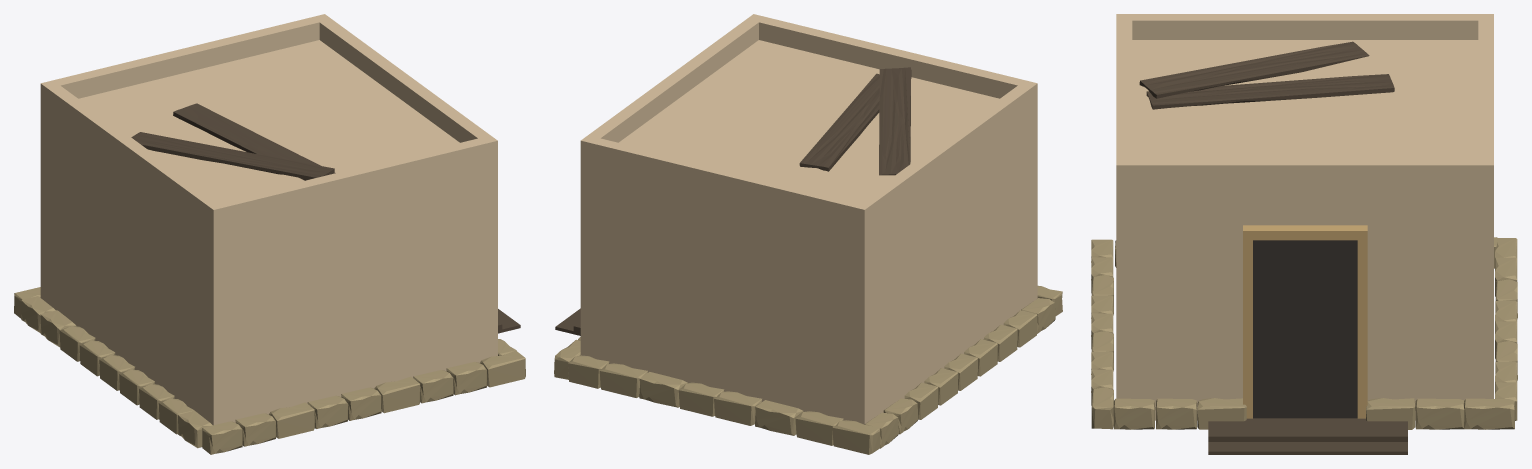
File: SM_small_house_02.fbx
3 views of the same model, side by side, from view 1: azimuth 30°, elevation 25°; view 2: azimuth 150°, elevation 25°; view 3: azimuth 270°, elevation 25° (orthographic). The views are drawn at different scales.
Visible parts, largest first — view 1: small_house_02; view 2: small_house_02; view 3: small_house_02.
Part boxes in pixels (x1,y1,x2,y2): small_house_02: (14, 14, 525, 454); small_house_02: (554, 14, 1062, 454); small_house_02: (1091, 14, 1517, 454).
Bounding box in the file's own units: 548 × 333 × 505.
